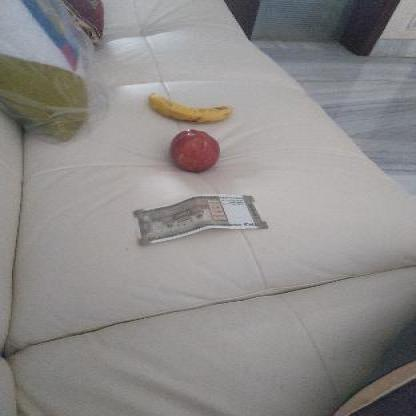New500Back: (129, 194, 271, 245)
